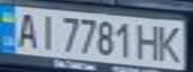1: (112, 19, 136, 58)
7: (57, 14, 81, 53), (75, 16, 96, 55)
8: (93, 18, 118, 56)
A: (12, 10, 42, 49)
H: (136, 20, 163, 61)
I: (33, 11, 57, 51)
K: (154, 22, 187, 64)
